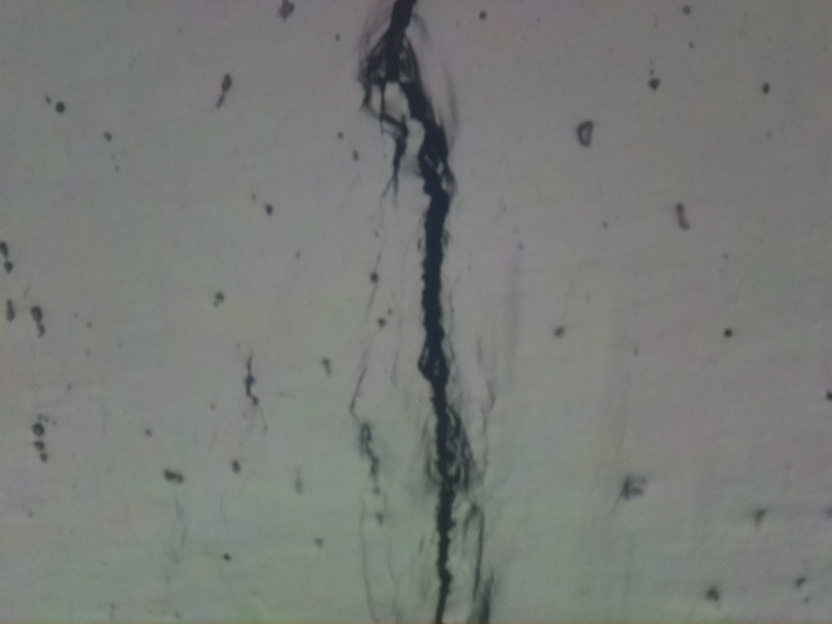crack: (353, 0, 459, 624), (460, 492, 486, 598)
